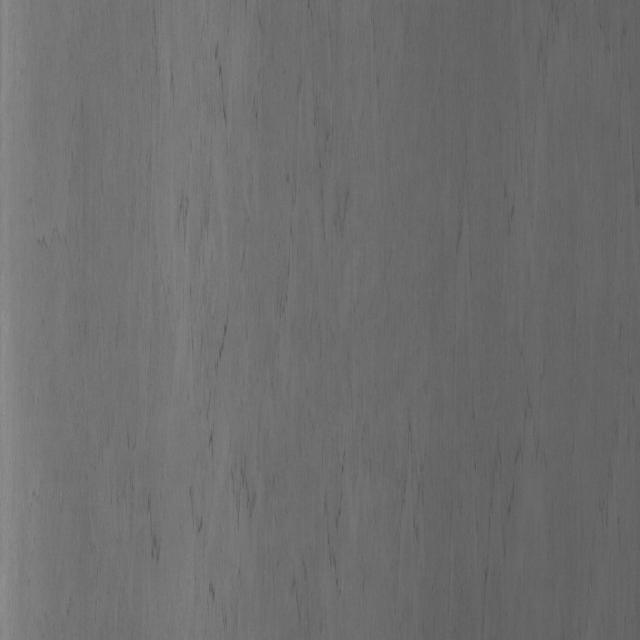inclusion: (164, 92, 352, 450)
